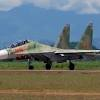maybay_muctieu: (1, 23, 100, 70)
